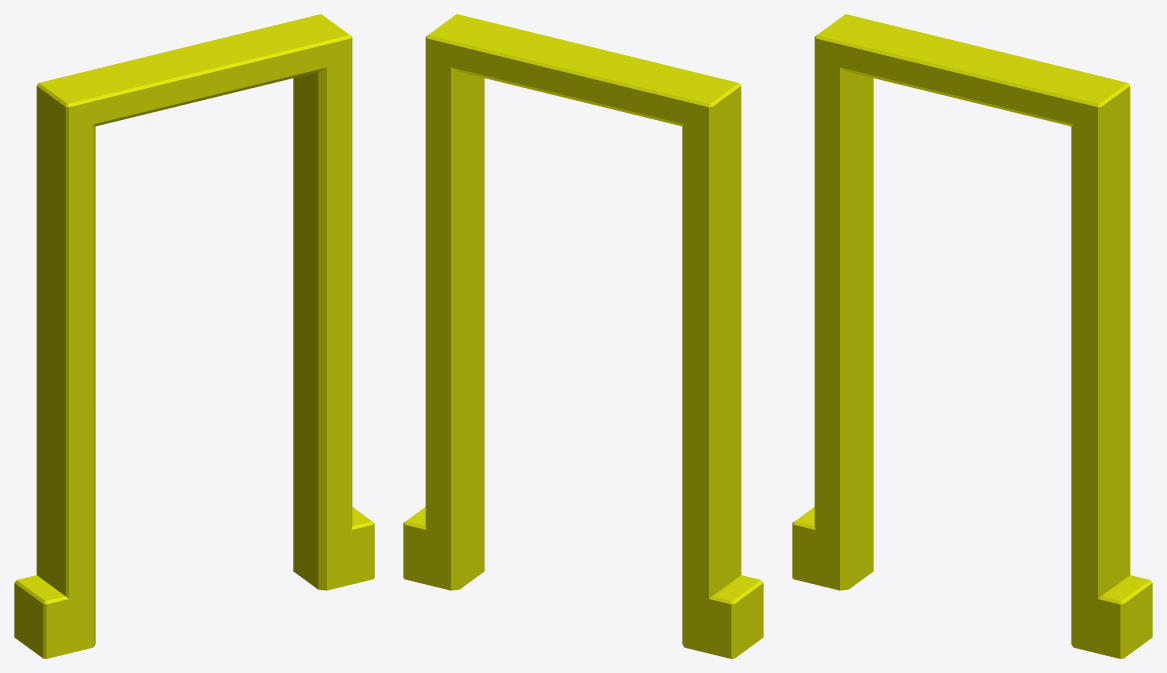
Rendered from Encadrement_Porte_Petit.fbx.
3 renders of one model, left to right at view 1: azimuth 30°, elevation 25°; view 2: azimuth 150°, elevation 25°; view 3: azimuth 330°, elevation 25°, orthographic.
Parts seen in each view (by area): view 1: Encadrement_Porte_Petit; view 2: Encadrement_Porte_Petit; view 3: Encadrement_Porte_Petit.
Boxes of the visible parts, box(x1,y1,x2,y2) form: Encadrement_Porte_Petit: box(14, 14, 374, 658); Encadrement_Porte_Petit: box(403, 14, 763, 658); Encadrement_Porte_Petit: box(792, 14, 1152, 658).
Size of the model in its own units: 134 by 212 by 22.
